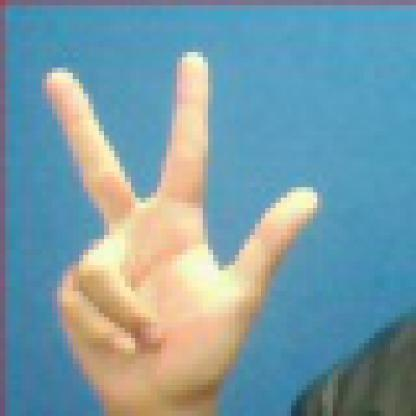eight: (24, 39, 327, 415)
